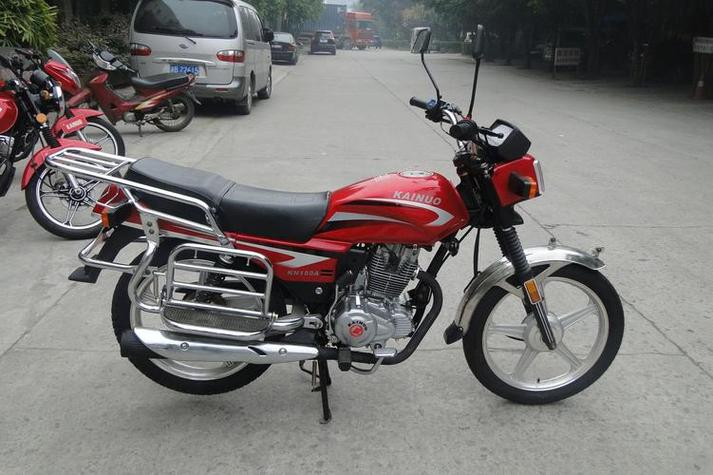摩托车: (46, 21, 614, 431)
